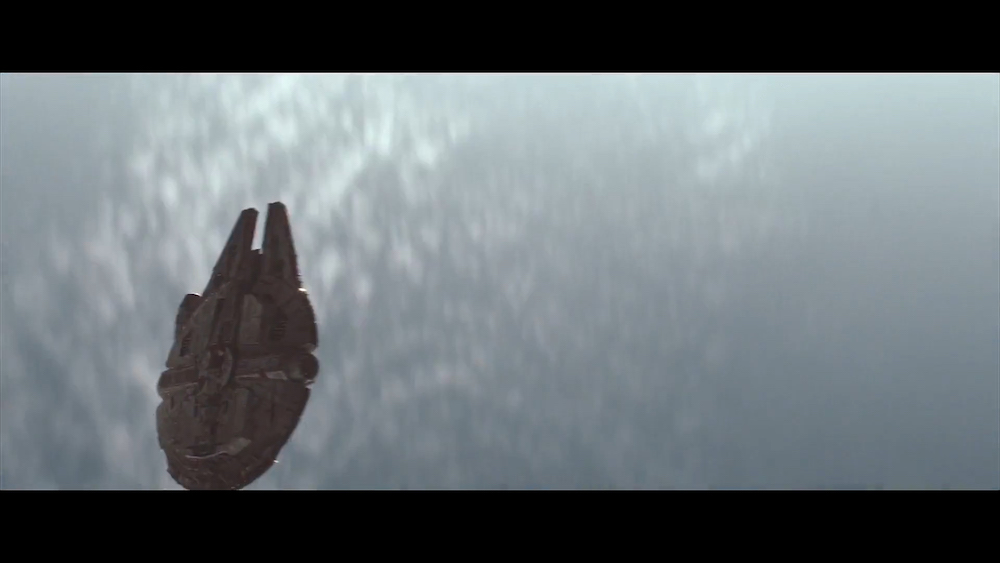Millennium Falcon: (155, 201, 321, 488)
